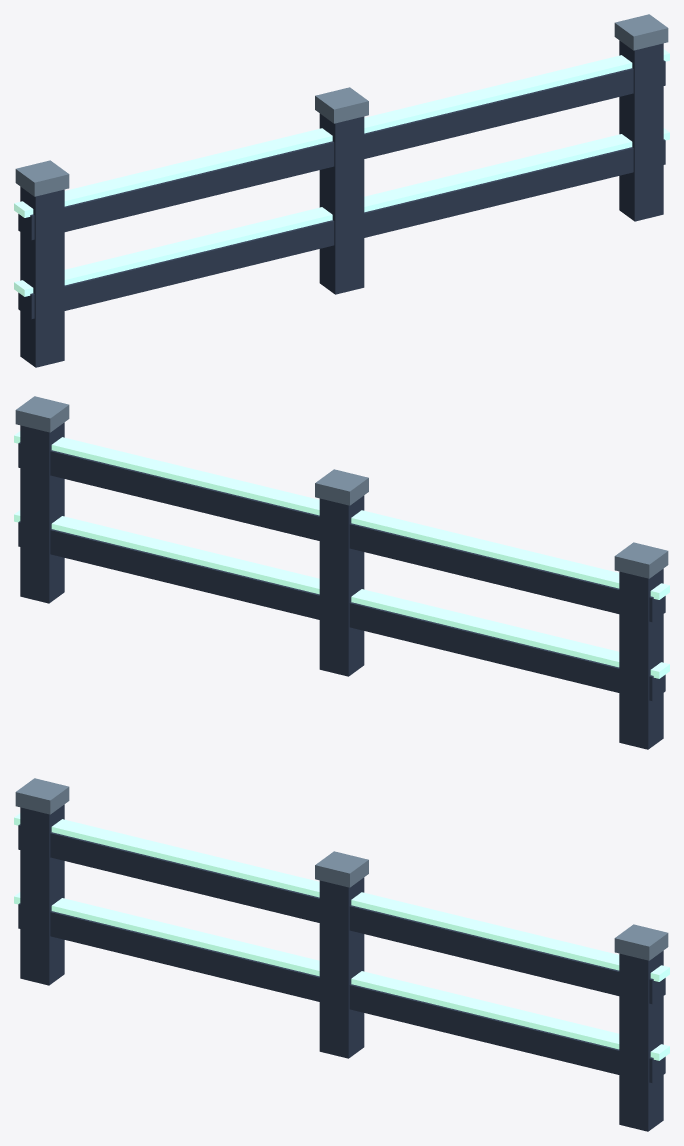
Rendered from light-rail.glb.
The picture shows the model from 3 angles, top to bottom: view 1: azimuth 30°, elevation 25°; view 2: azimuth 150°, elevation 25°; view 3: azimuth 330°, elevation 25°; orthographic projection.
Parts seen in each view (by area): view 1: light-rail; view 2: light-rail; view 3: light-rail.
Boxes of the visible parts, box(x1,y1,x2,y2) form: light-rail: box(14, 14, 669, 367); light-rail: box(14, 396, 669, 749); light-rail: box(14, 778, 669, 1131).
Size of the model in its own units: 3.34 by 0.925 by 0.17.
